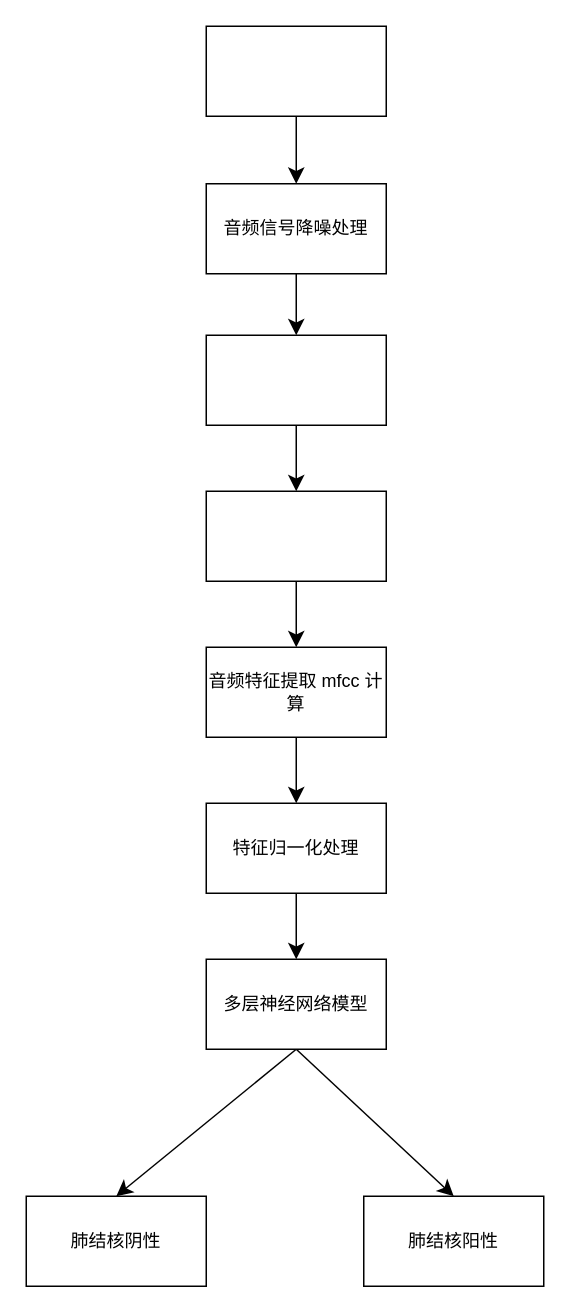
Some shapes in this 570 by 1313 pixel diagram are drawn without their labels. Each missing label, with the box of its shape:
咳嗽音频文件: (205, 25, 386, 116)
音频预处理：咳嗽片段提取: (205, 334, 386, 425)
音频预处理：音频长度对齐: (205, 490, 386, 581)
